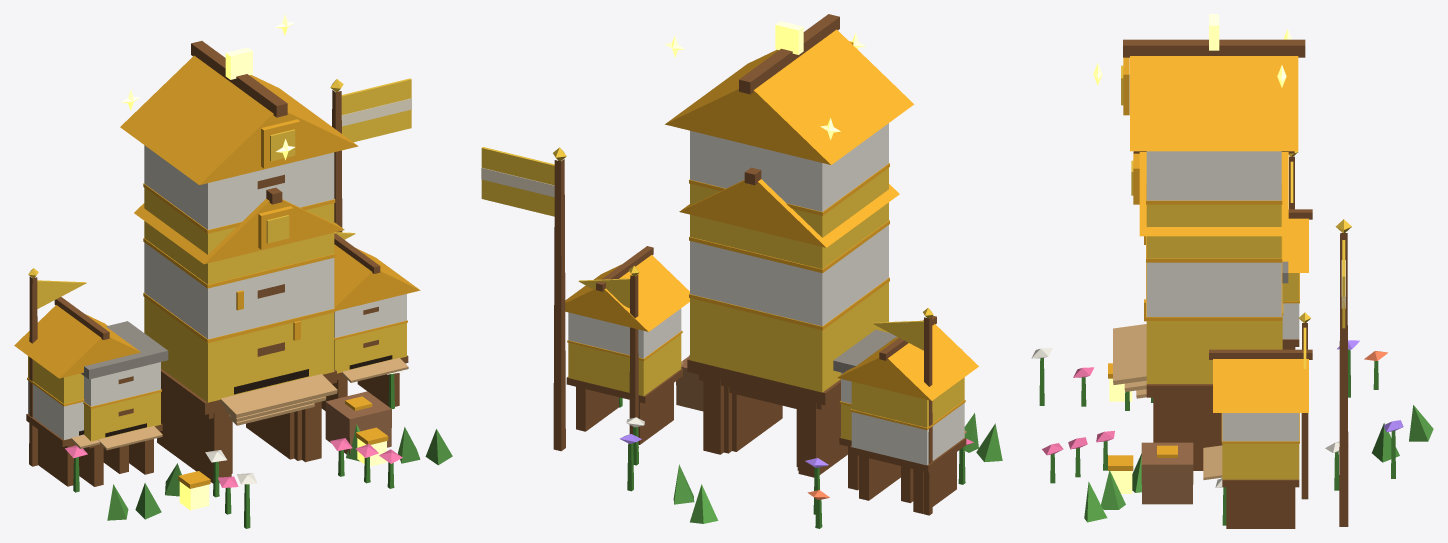
File: bee-apiary-lv-blocky.glb
The picture shows the model from 3 angles, left to right: view 1: azimuth 30°, elevation 25°; view 2: azimuth 150°, elevation 25°; view 3: azimuth 270°, elevation 25°; orthographic projection. The views are drawn at different scales.
Parts seen in each view (by area): view 1: lv3, lv2, lv1; view 2: lv3, lv2, lv1; view 3: lv3, lv2, lv1.
Boxes of the visible parts, bbox=[...] form: lv3: bbox=[14, 14, 452, 528]; lv2: bbox=[79, 187, 420, 519]; lv1: bbox=[165, 403, 360, 497]; lv3: bbox=[481, 14, 1002, 528]; lv2: bbox=[578, 167, 978, 514]; lv1: bbox=[729, 387, 797, 466]; lv3: bbox=[1031, 14, 1433, 528]; lv2: bbox=[1068, 151, 1399, 509]; lv1: bbox=[1096, 389, 1153, 492].
Bounding box in the file's own units: 1.95 × 1.82 × 1.55.
